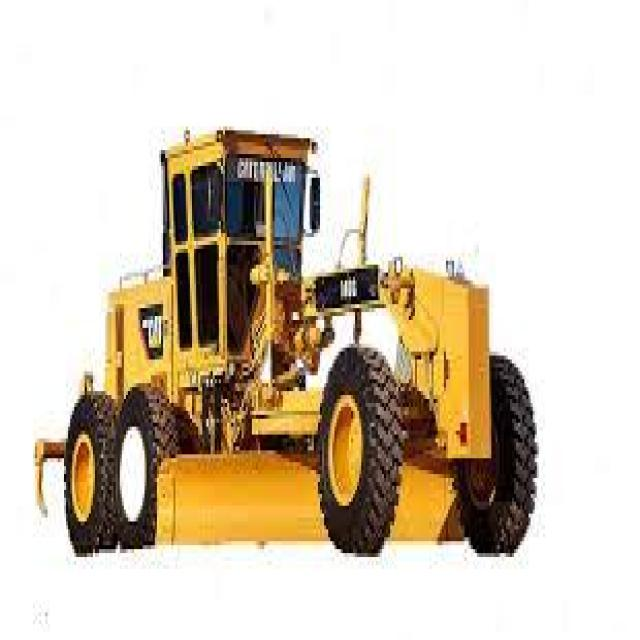buldozerpayloadergrader: (29, 114, 535, 573)
